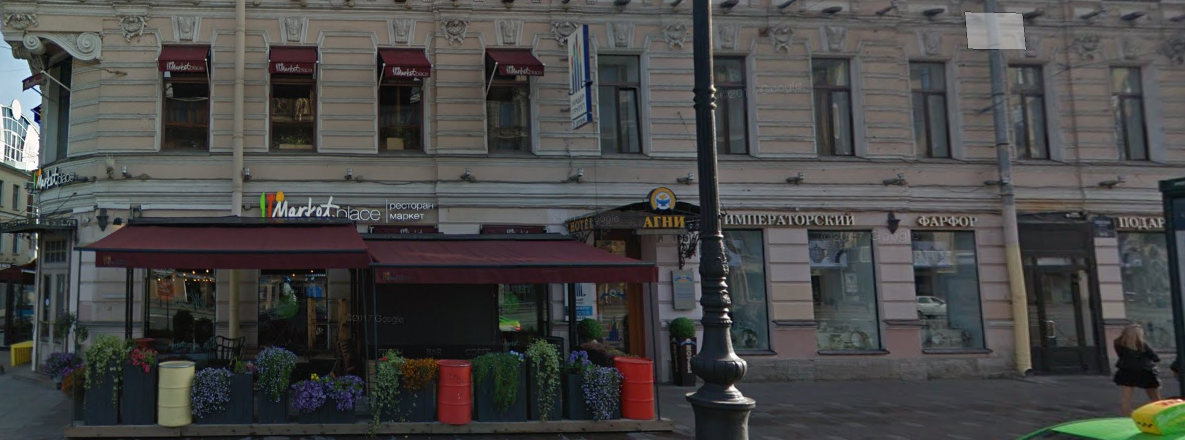cantilever: (551, 27, 597, 131)
door: (1048, 268, 1078, 372)
signboard: (257, 184, 441, 227), (640, 187, 691, 240), (724, 208, 854, 228), (910, 206, 975, 232), (28, 164, 88, 192)
window: (914, 230, 993, 360), (811, 230, 880, 353), (725, 229, 771, 356), (599, 51, 649, 159), (1007, 66, 1053, 163), (1111, 67, 1152, 167), (814, 58, 854, 160), (911, 61, 951, 160), (269, 83, 321, 153), (713, 53, 747, 153), (383, 82, 428, 153), (163, 73, 204, 147), (490, 83, 527, 158)
